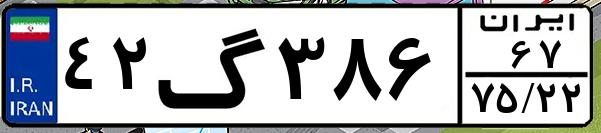2: (110, 28, 156, 98), (560, 70, 590, 125), (535, 70, 560, 125)
3: (270, 28, 330, 110)
4: (57, 26, 110, 100)
5: (495, 70, 520, 125)
6: (385, 28, 445, 110), (508, 27, 537, 80)
7: (537, 27, 568, 80), (470, 70, 495, 125)
8: (330, 28, 385, 110)
گ: (156, 12, 270, 120)
